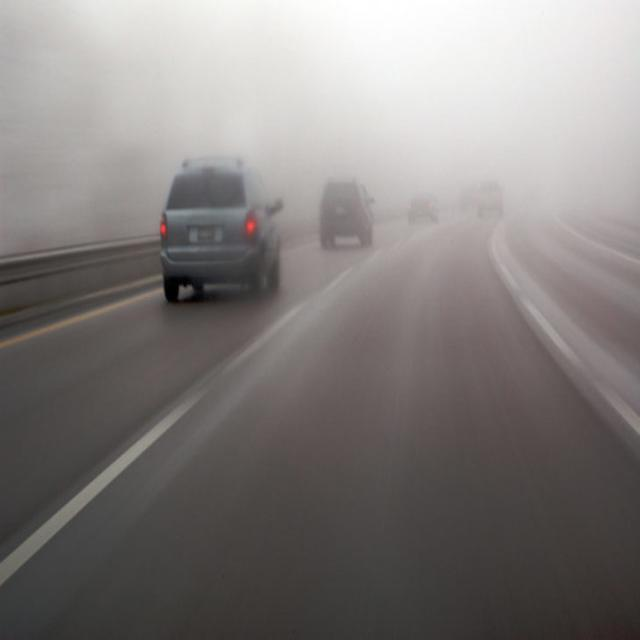car: (158, 160, 284, 305), (319, 180, 374, 250), (477, 178, 505, 218), (407, 194, 438, 224)
